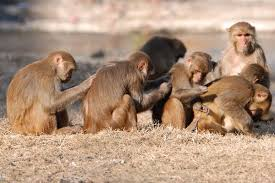monkey: (23, 13, 275, 173)
